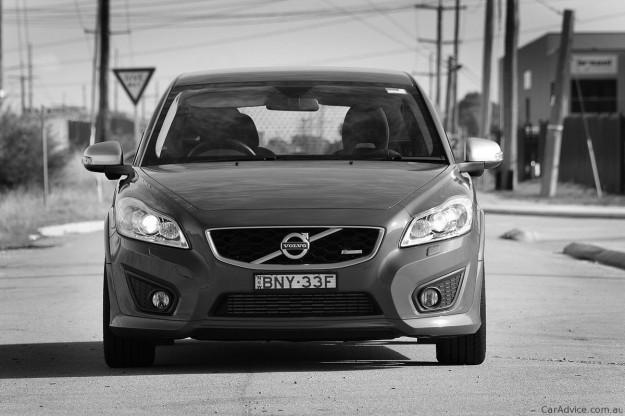car: (80, 67, 502, 365)
